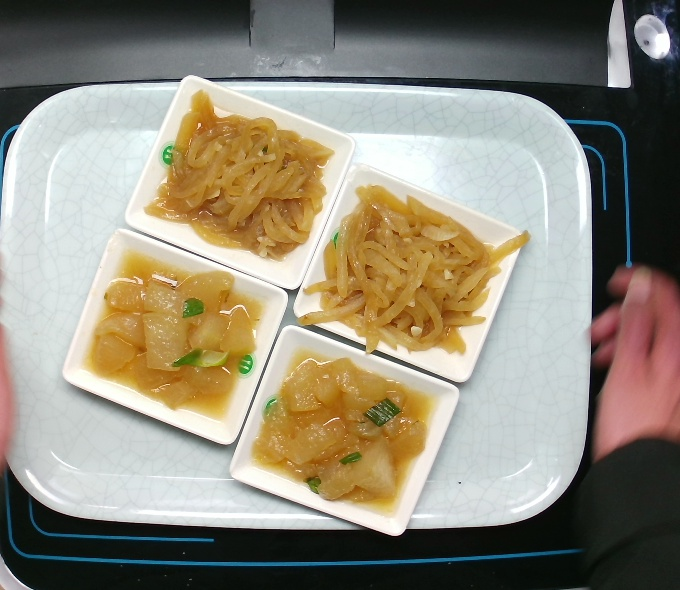wcq-DongGua: (75, 242, 271, 429), (243, 344, 442, 526)
wcq-LuoBoSi: (289, 179, 536, 363), (138, 84, 342, 271)
